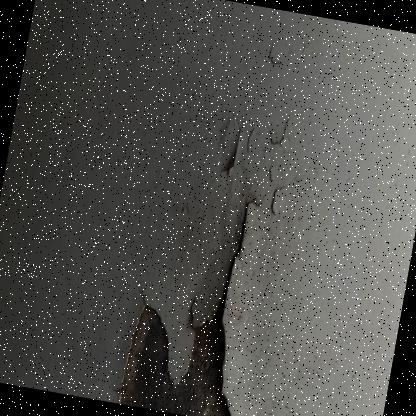Crack: (90, 0, 383, 415)
